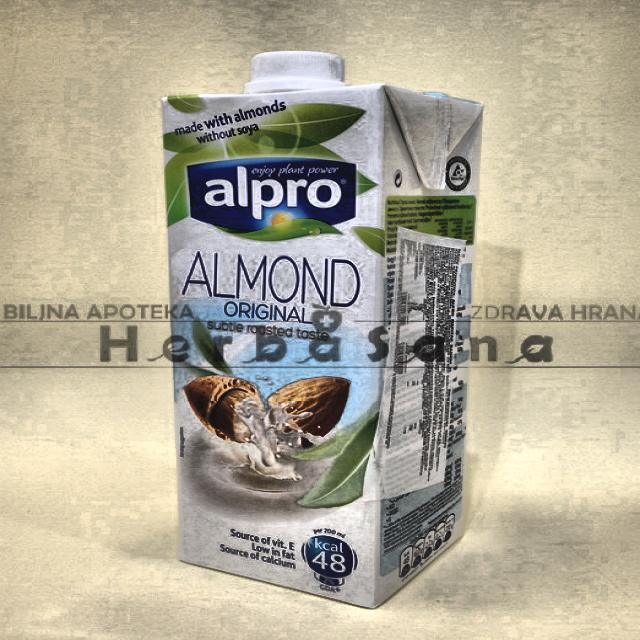cardboard: (160, 75, 482, 608)
